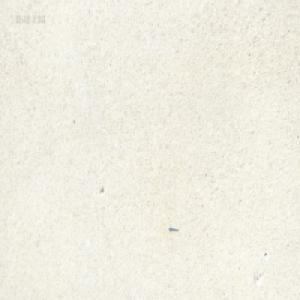Nail: (168, 224, 178, 232)
